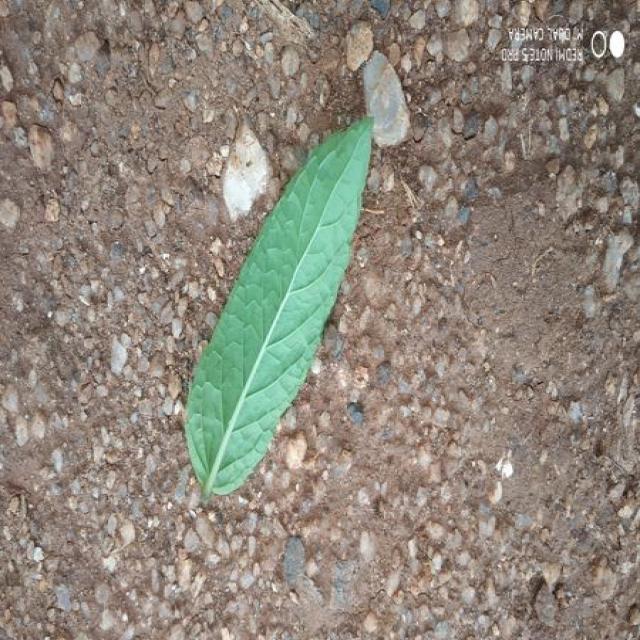mint: (185, 119, 370, 497)
